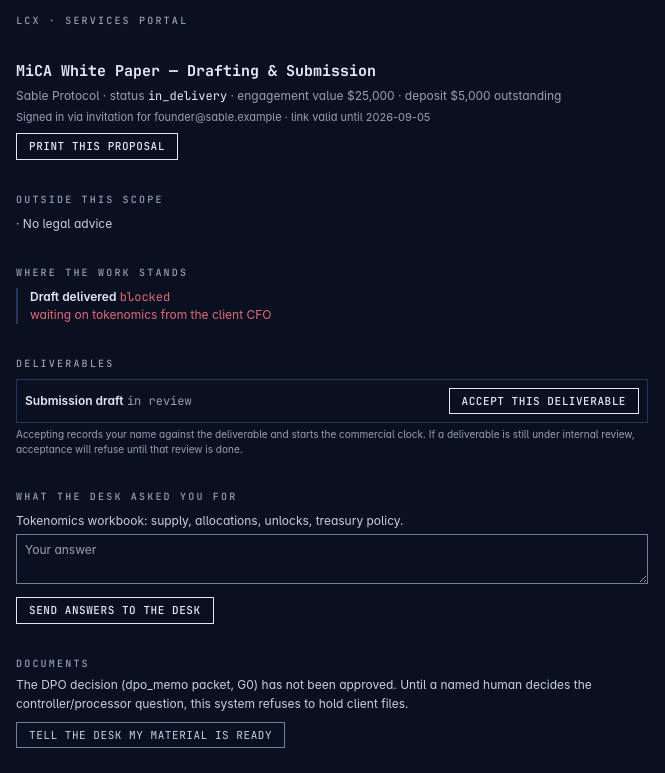
Scenario: the client portal › acceptance posts to the deliverable and a desk refusal renders verbatim
This screenshot has width=665, height=773.
Click the button with test id "portal-accept-del-1" at (544, 401), box [448, 388, 639, 414]
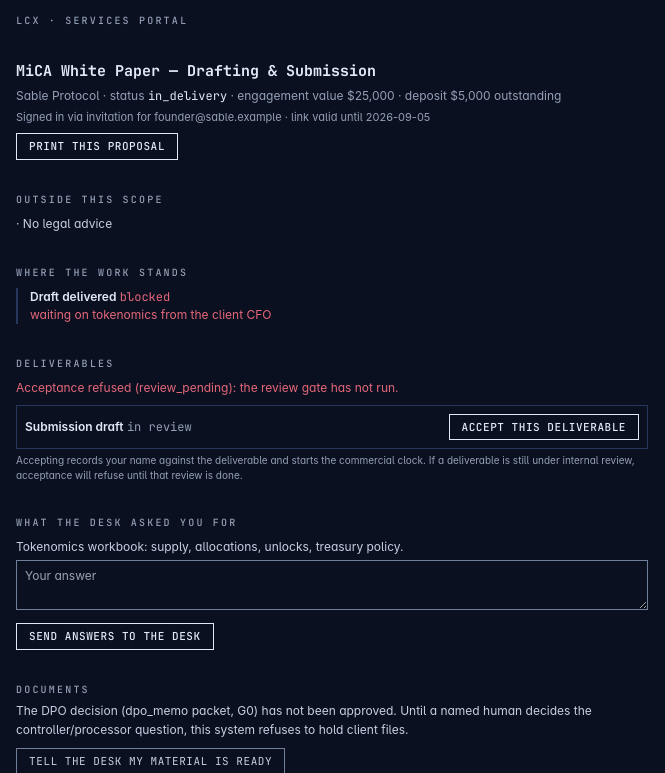
expect the message with test id "portal-action-error" shows "review gate": met, box [16, 380, 398, 394]
